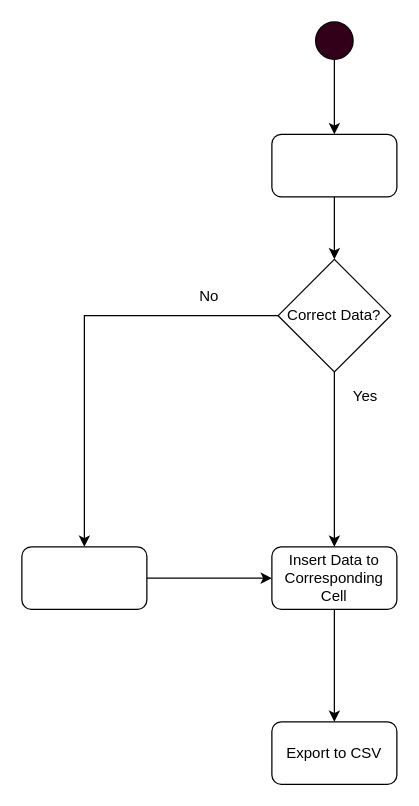
This 419x806 diagram has some shape labels left out. The shapes that lost their labels are listed below. From the top down, each one's box as (x1, y1, x2, y2) in pixels, then its label:
(271, 133, 397, 197): Create Macro
(21, 546, 147, 609): Format Data
